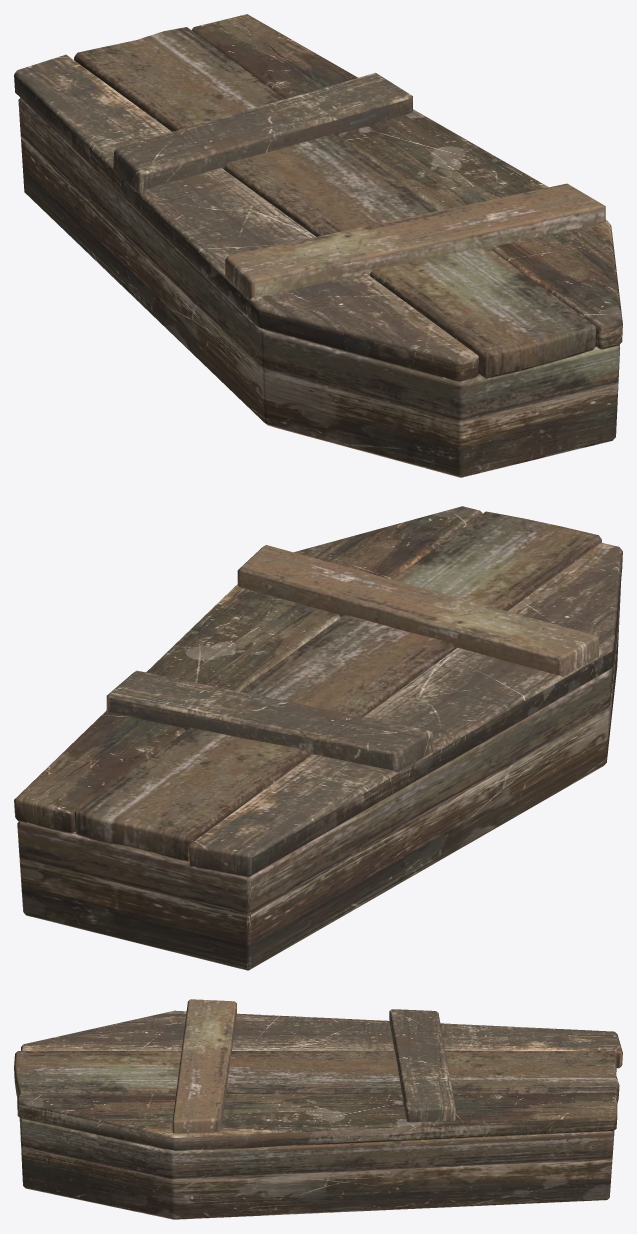
3 views of the same model, one above another, from view 1: azimuth 30°, elevation 25°; view 2: azimuth 150°, elevation 25°; view 3: azimuth 270°, elevation 25° (orthographic). The views are drawn at different scales.
Parts seen in each view (by area): view 1: SM_Coffin_Wooden_Closed_LOD0; view 2: SM_Coffin_Wooden_Closed_LOD0; view 3: SM_Coffin_Wooden_Closed_LOD0.
Part boxes in pixels (<box>): SM_Coffin_Wooden_Closed_LOD0: <box>14,14,622,477</box>; SM_Coffin_Wooden_Closed_LOD0: <box>14,506,622,970</box>; SM_Coffin_Wooden_Closed_LOD0: <box>14,999,622,1219</box>.
Bounding box in the file's own units: 1.17 × 0.4413 × 2.39.
Materials: 1 (1 with a texture image).
